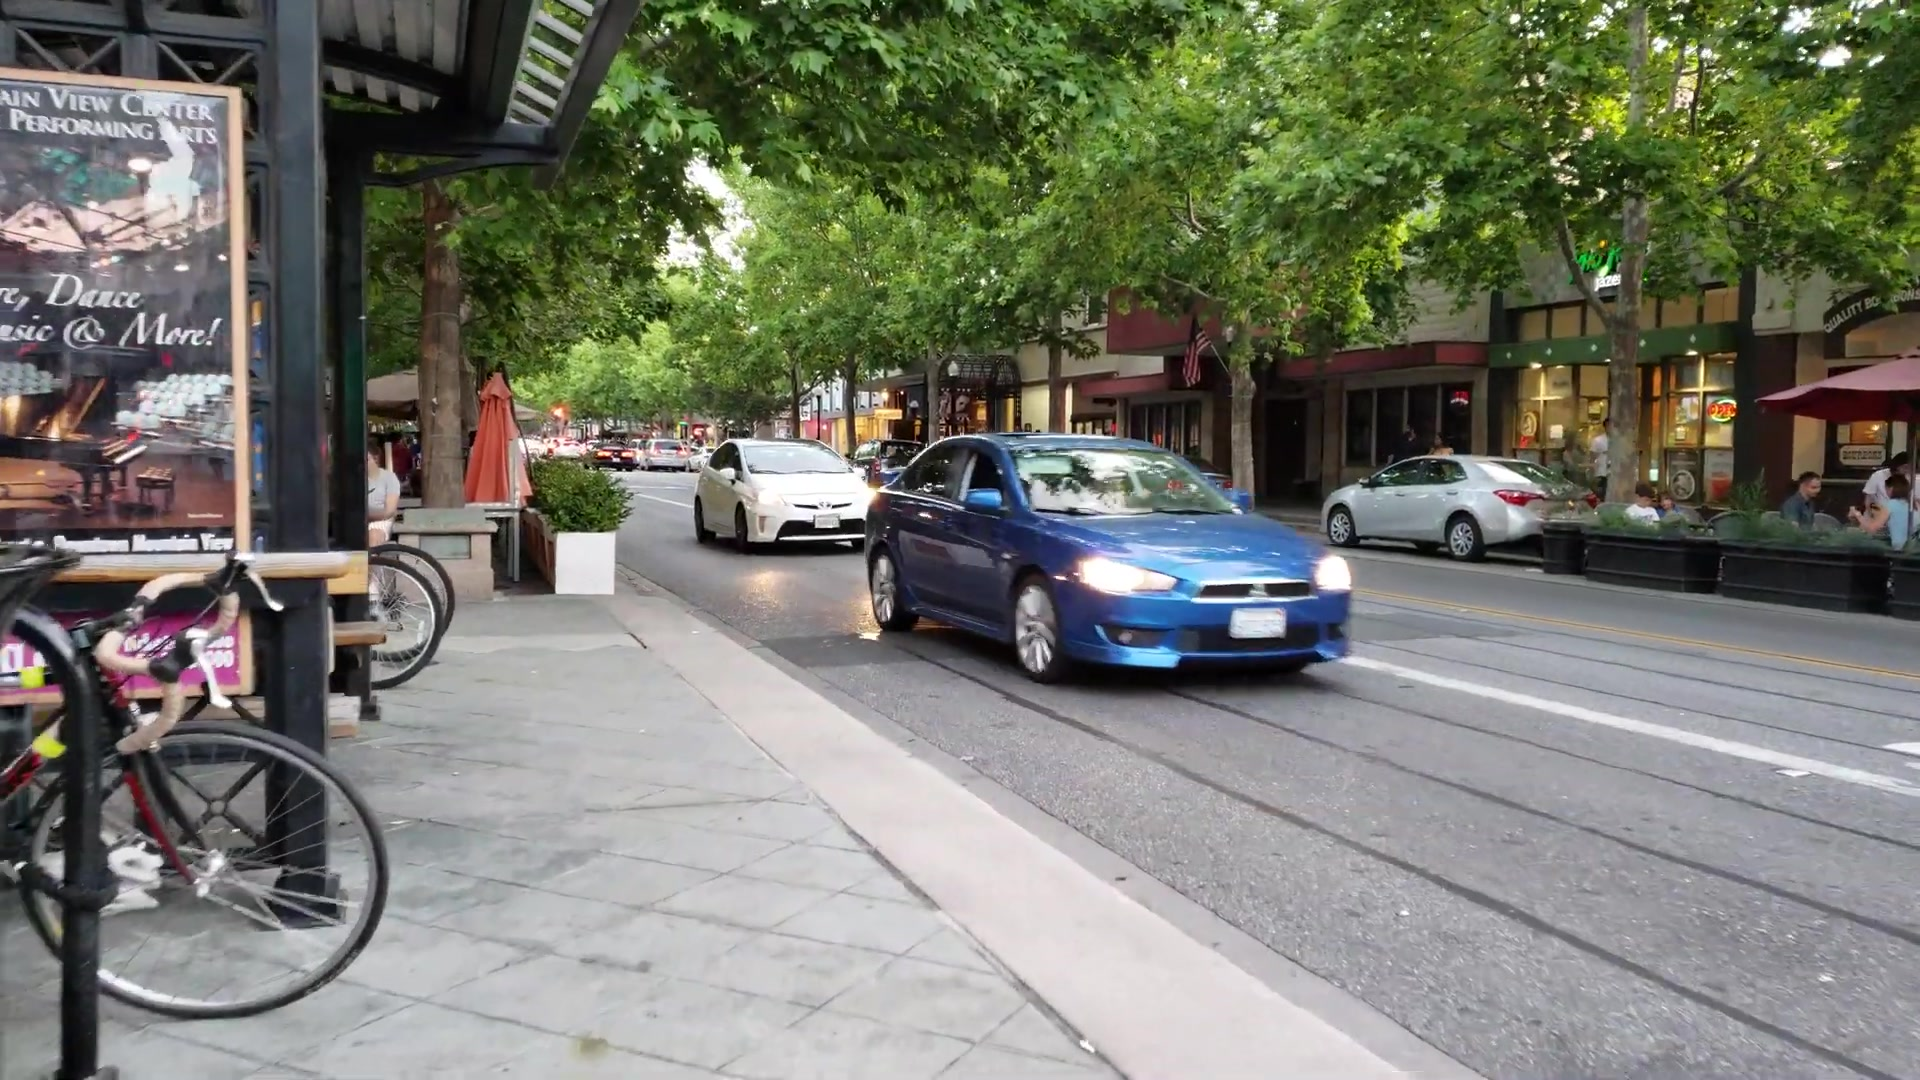vehicle: (869, 431, 1354, 686), (696, 436, 872, 547)
